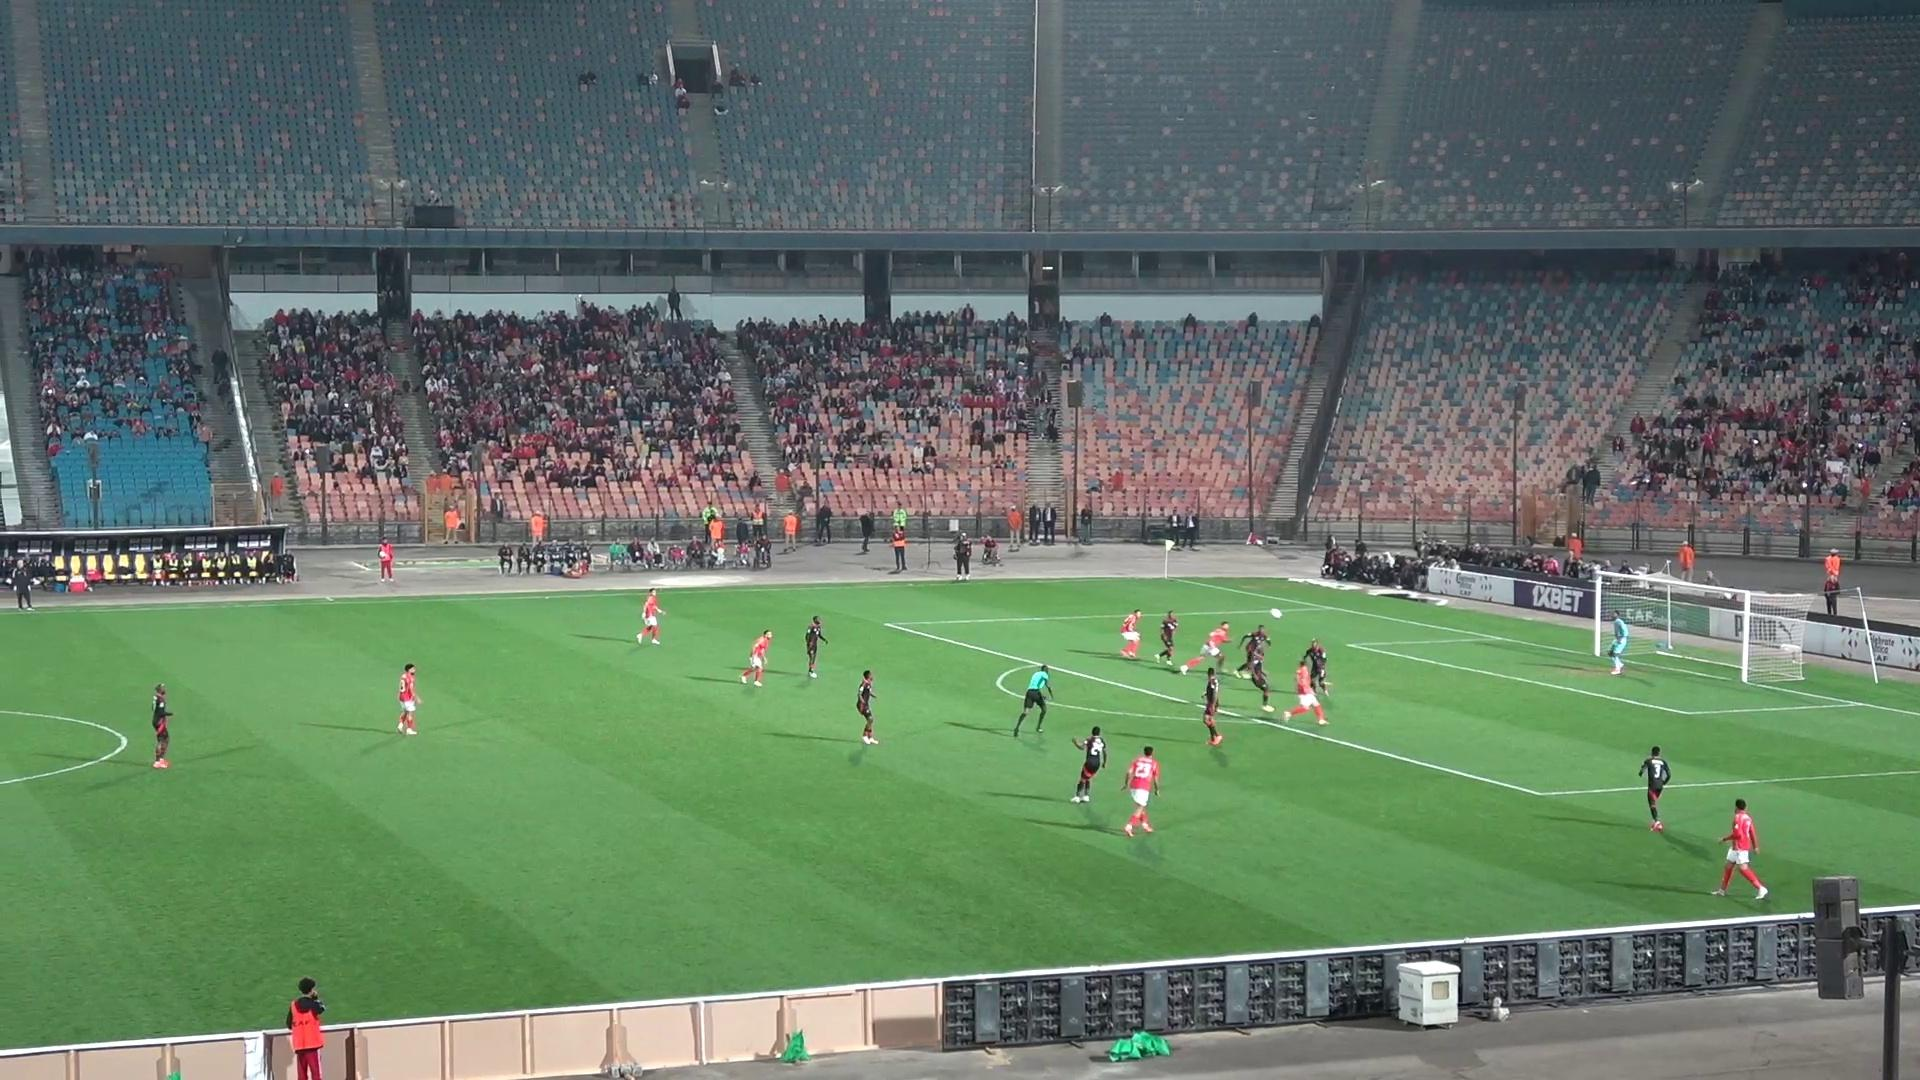Ball: (1269, 608, 1282, 618)
GK2: (1594, 611, 1630, 674)
Refree: (1011, 665, 1054, 737)
Team1: (1713, 799, 1768, 899), (1124, 746, 1160, 833), (1179, 621, 1230, 673), (738, 630, 771, 686), (396, 665, 421, 735), (636, 588, 665, 644), (1120, 611, 1142, 659)
Team2: (1638, 746, 1671, 833), (1069, 727, 1106, 803), (1236, 625, 1271, 680), (150, 683, 173, 769), (1246, 647, 1276, 711), (855, 670, 880, 744), (1300, 640, 1328, 698), (804, 615, 828, 678), (1155, 611, 1178, 665)
